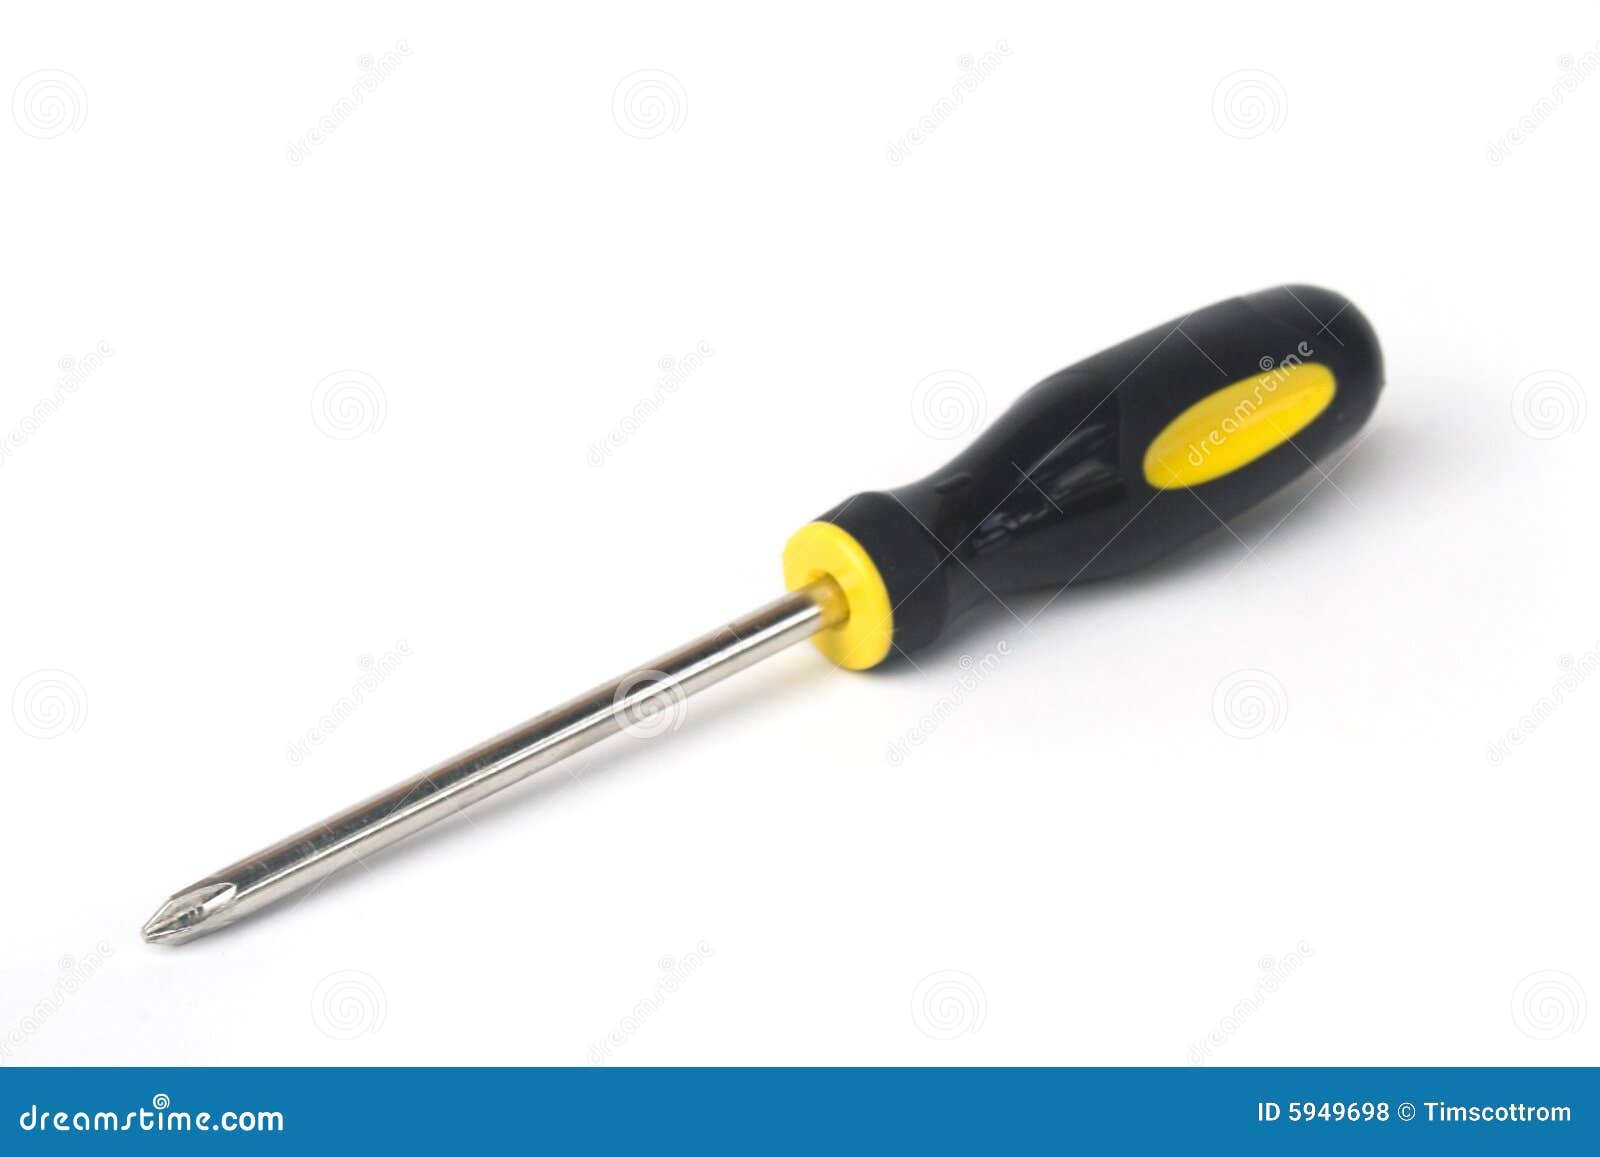screwdriver: (144, 276, 1385, 947)
